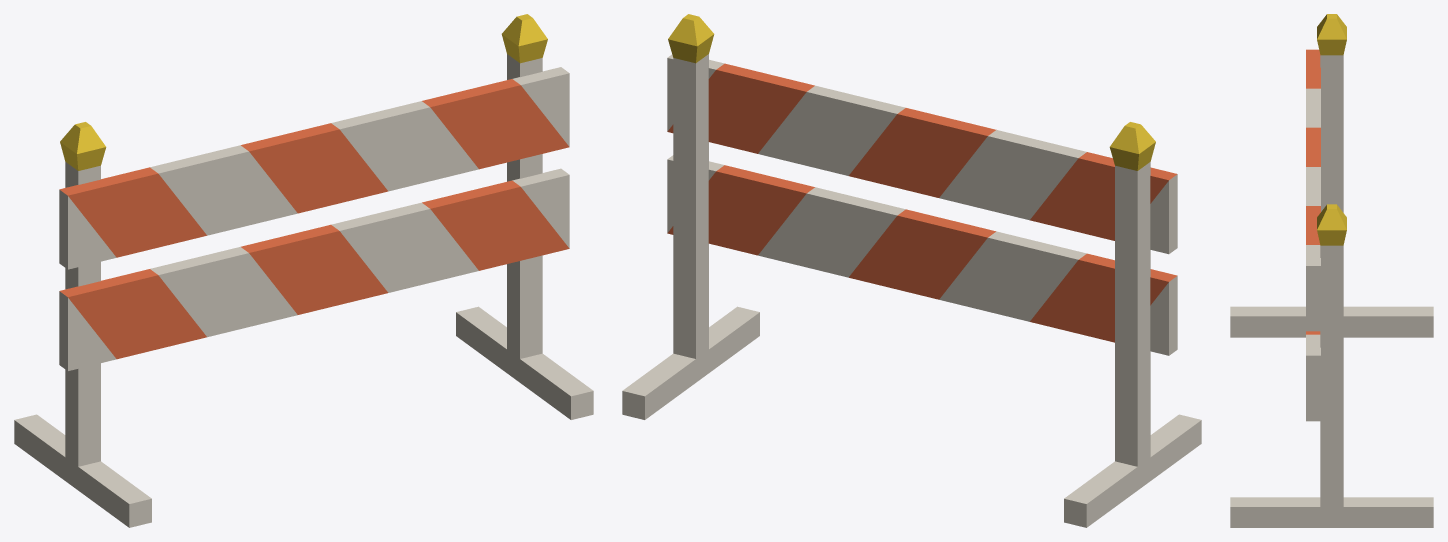
Rendered from Road_Work_Sign_2.fbx.
3 renders of one model, left to right at view 1: azimuth 30°, elevation 25°; view 2: azimuth 150°, elevation 25°; view 3: azimuth 270°, elevation 25°, orthographic. The views are drawn at different scales.
Parts seen in each view (by area): view 1: Road_Work_Sign_2; view 2: Road_Work_Sign_2; view 3: Road_Work_Sign_2.
Part boxes in pixels (left/top/right/bottom): Road_Work_Sign_2: left=14, top=14, right=593, bottom=527; Road_Work_Sign_2: left=622, top=14, right=1201, bottom=527; Road_Work_Sign_2: left=1230, top=14, right=1433, bottom=527.
Bounding box in the file's own units: 2.27 × 1.55 × 0.9025.
Materials: 1 (1 with a texture image).
